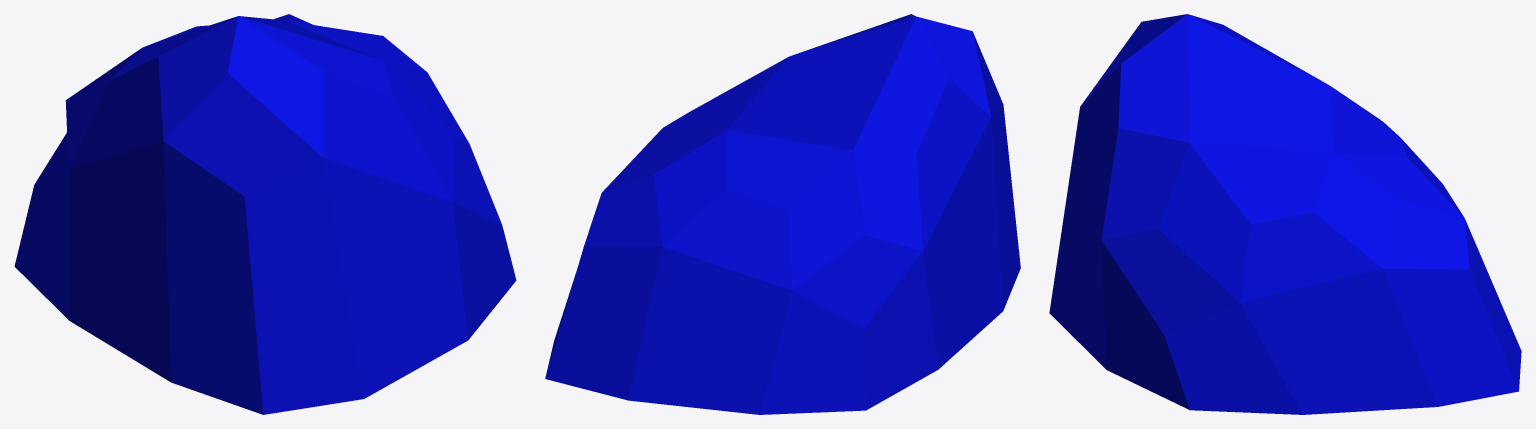
The model's file is SM_Small_RoundStone2.fbx.
3 renders of one model, left to right at view 1: azimuth 30°, elevation 25°; view 2: azimuth 150°, elevation 25°; view 3: azimuth 270°, elevation 25°, orthographic. The views are drawn at different scales.
Parts seen in each view (by area): view 1: SM_Small_RoundStone2; view 2: SM_Small_RoundStone2; view 3: SM_Small_RoundStone2.
Boxes of the visible parts, x1,y1,x2,y2 form: SM_Small_RoundStone2: (14, 14, 516, 414); SM_Small_RoundStone2: (545, 14, 1020, 414); SM_Small_RoundStone2: (1049, 14, 1521, 414).
Bounding box in the file's own units: 85.84 × 70.53 × 107.
